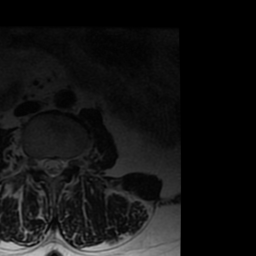CCS_normal: (49, 152, 57, 182)
LFS_normal: (66, 151, 74, 173)
LLS_normal: (57, 154, 66, 176)
RFS_normal: (32, 151, 41, 173)
RLS_normal: (41, 152, 49, 178)
